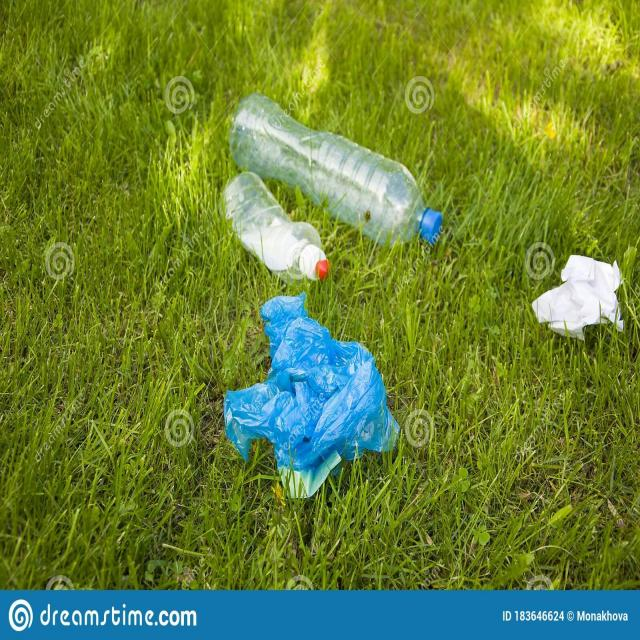bottle: (231, 93, 448, 280)
